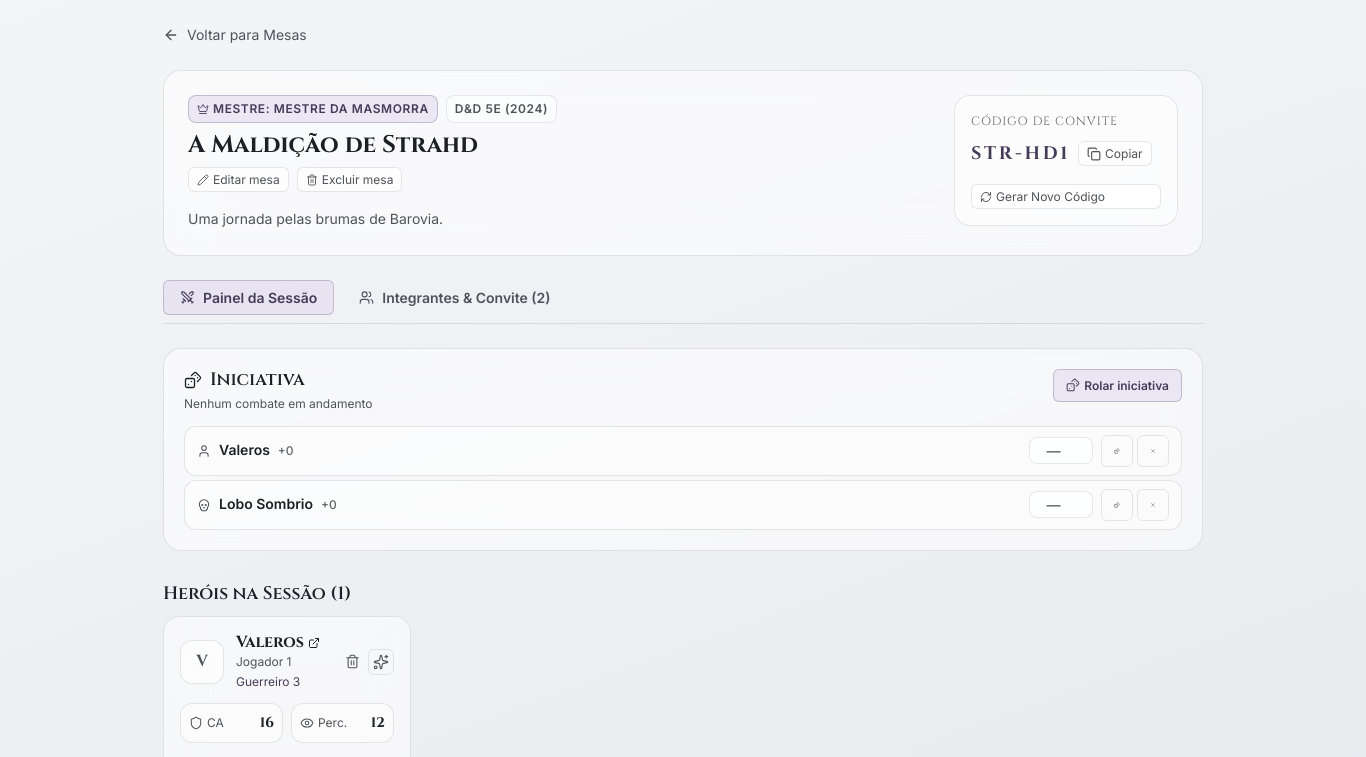
CampaignDetailPage — Fase 2: Painel da Sessão › permite alternar para a aba Integrantes & Convite
Click the tab "Integrantes & Convite (2)". click: {"x": 455, "y": 297}
box: [342,280,568,315]
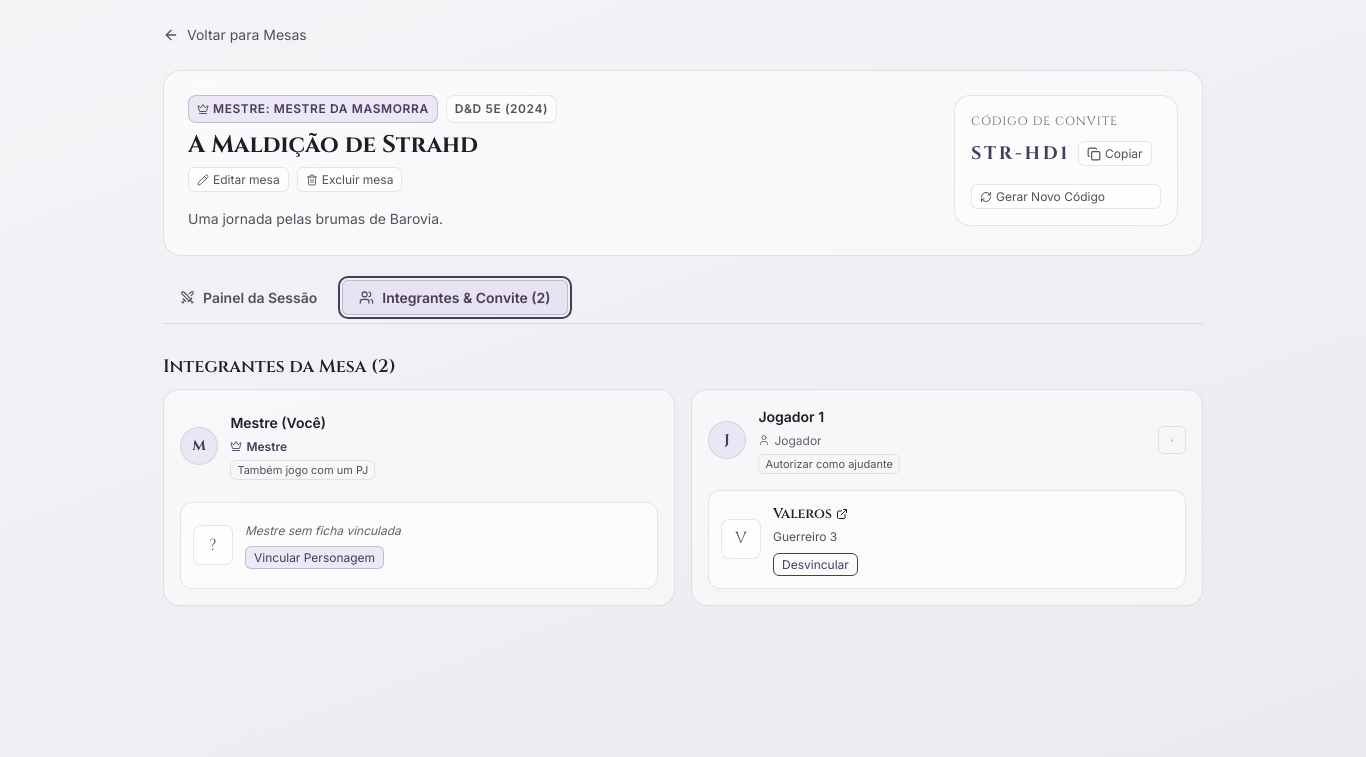
expect the text "Jogador 1" is shown: met, box [758,408,824,425]
expect the heading "Integrantes da Mesa (2)" is shown: met, box [163,356,396,377]
